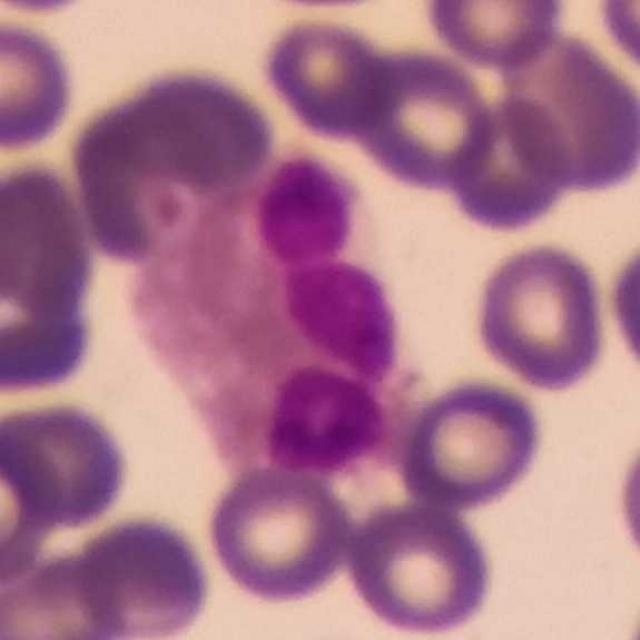Eosinophil: (134, 146, 423, 491)
RBC: (490, 26, 639, 198), (0, 158, 104, 402), (67, 72, 208, 244), (344, 44, 502, 194), (202, 463, 358, 609), (469, 238, 612, 394), (342, 500, 499, 639), (396, 374, 549, 513), (62, 508, 215, 640), (442, 92, 575, 240), (0, 395, 136, 537), (256, 11, 402, 141), (138, 71, 265, 191), (1, 548, 132, 640), (0, 410, 66, 590), (0, 13, 80, 155), (420, 0, 568, 70), (603, 227, 640, 392), (610, 422, 640, 580), (592, 0, 640, 83), (0, 0, 98, 18)
